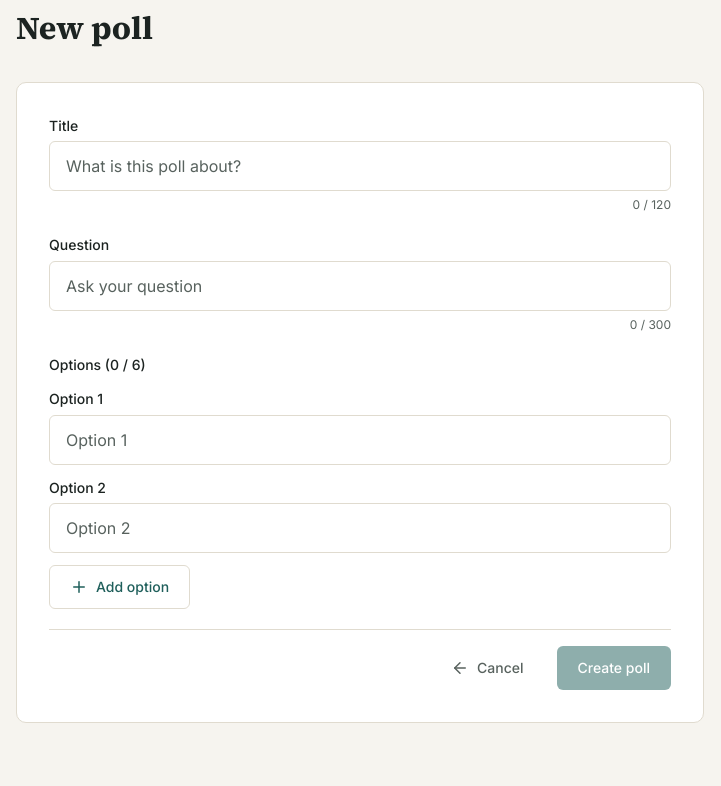
CreatePollPage › allows adding and removing option rows within 2-6 range
Expected: the field with placeholder "Option 1" is shown, [49,414,671,464]
Expected: the field with placeholder "Option 2" is shown, [49,503,671,553]
# Add option button is available
Click the button "Add option": (120, 587) [49,565,190,609]
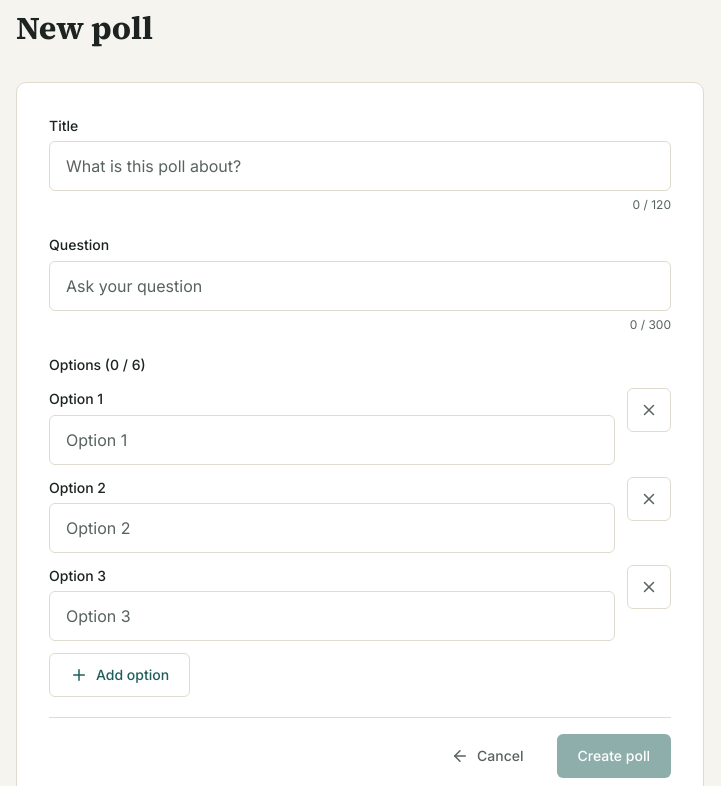
Expected: the field with placeholder "Option 3" is shown, [49,591,615,641]
# Remove option 3 using its specific accessible label
Click the button named "Remove option 3": (649, 587) [627,565,671,609]
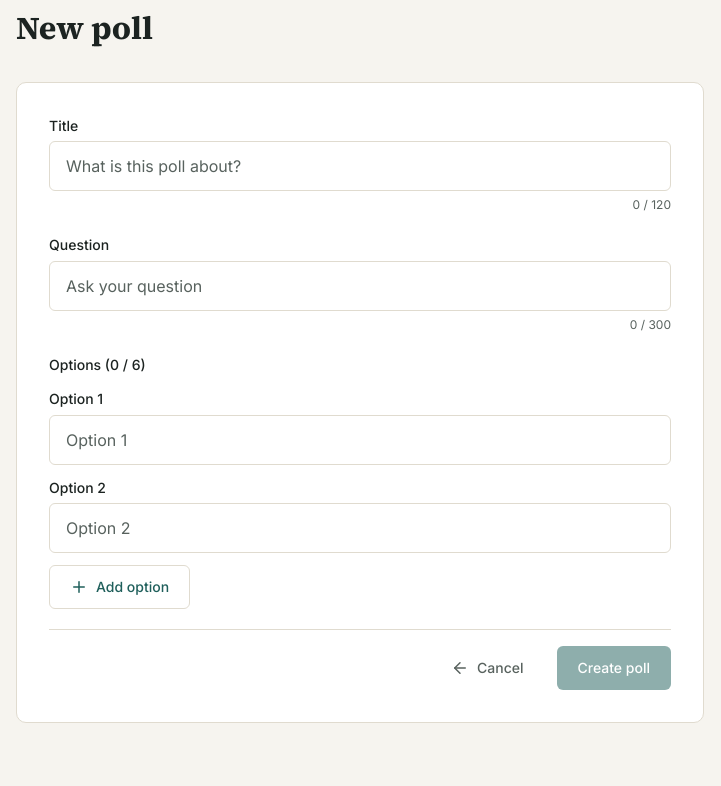
Expected: the label with placeholder "Option 3" is gone
